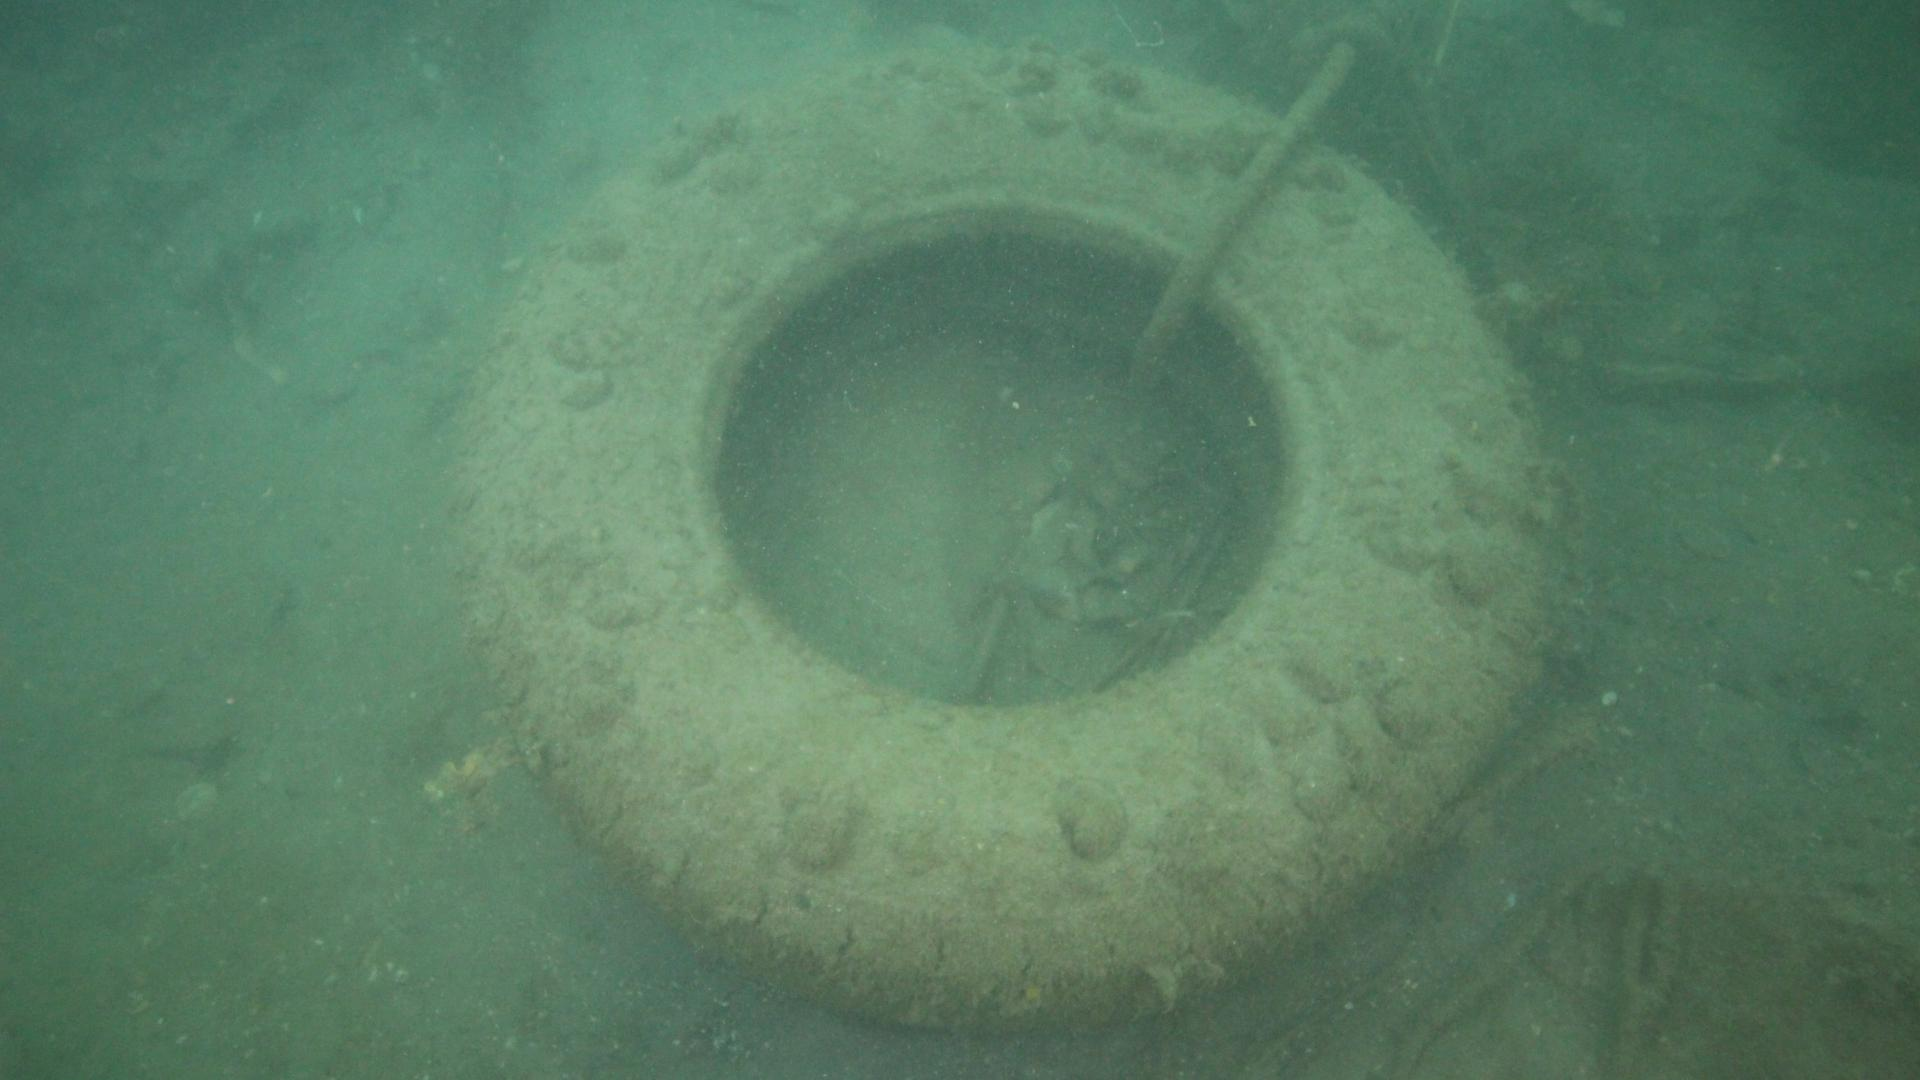tire: (446, 40, 1552, 1029)
